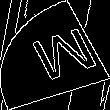M_S: (15, 23, 95, 87)
